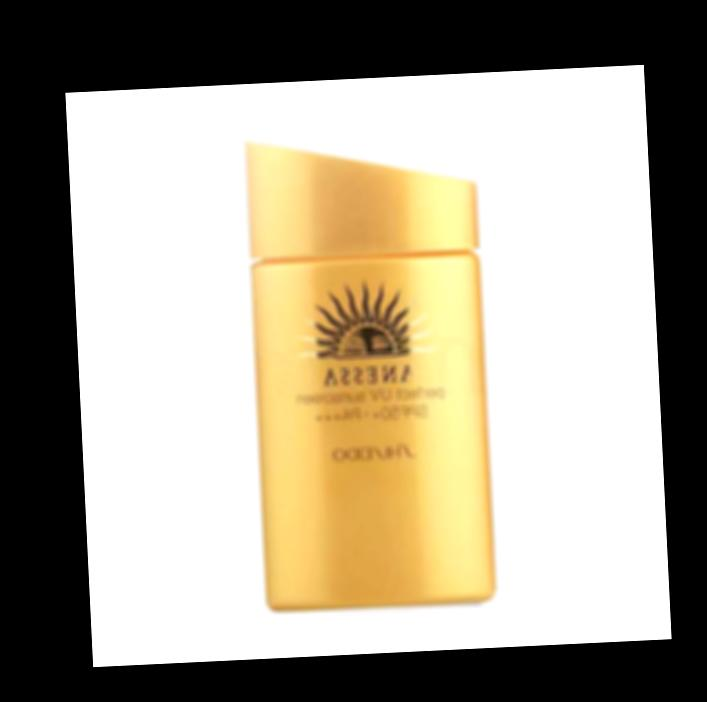cosmetic: (243, 115, 494, 611)
